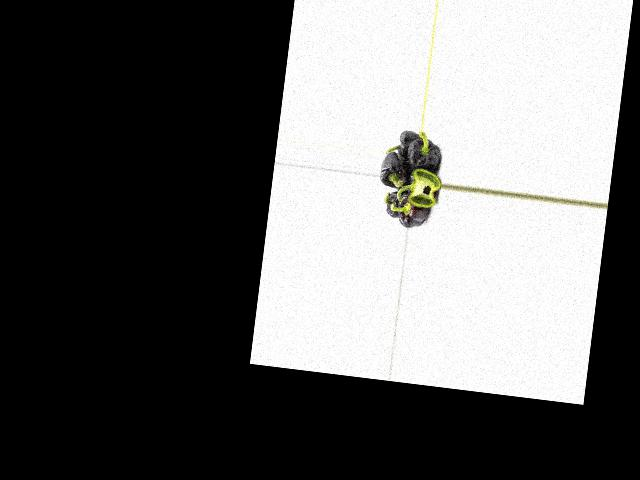bell_pepper: (395, 186, 430, 229)
